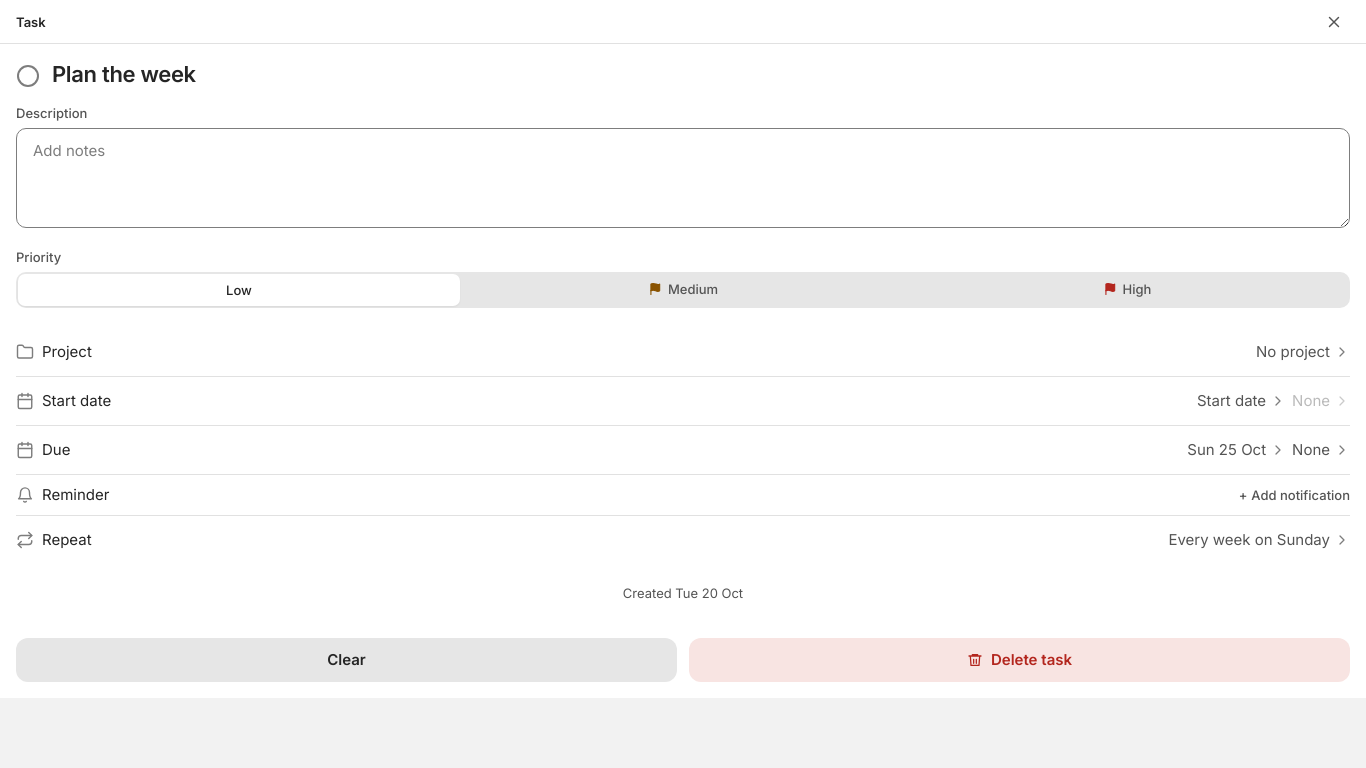
it: Delete a task (TK-5) › uses the scope dialog for a repeating task
This screenshot has width=1366, height=768.
What coordinates should you click on to do the following:
click the button "Delete task"
I would click on:
 (1020, 660)
Its box is [689, 638, 1350, 682].
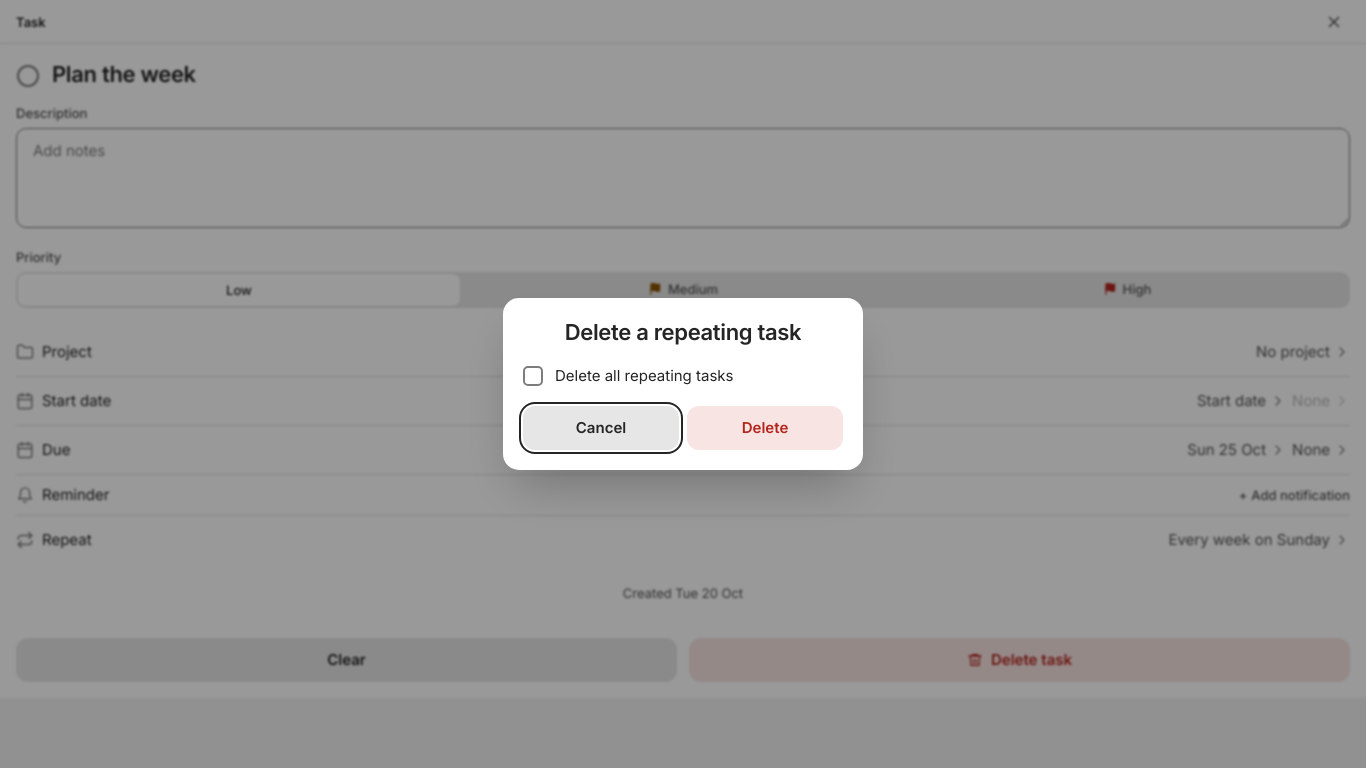
Expected: the dialog "Delete a repeating task" is shown, [503, 298, 863, 470]
Expected: the checkbox labelled "Delete all repeating tasks" is shown, [523, 366, 843, 386]
Expected: the button "Delete" is shown, [687, 406, 843, 450]
